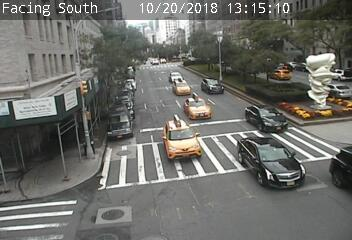car: (238, 137, 306, 189), (162, 120, 201, 160), (245, 104, 287, 133), (184, 98, 210, 119), (201, 78, 224, 94), (173, 80, 190, 95), (169, 72, 184, 83)
